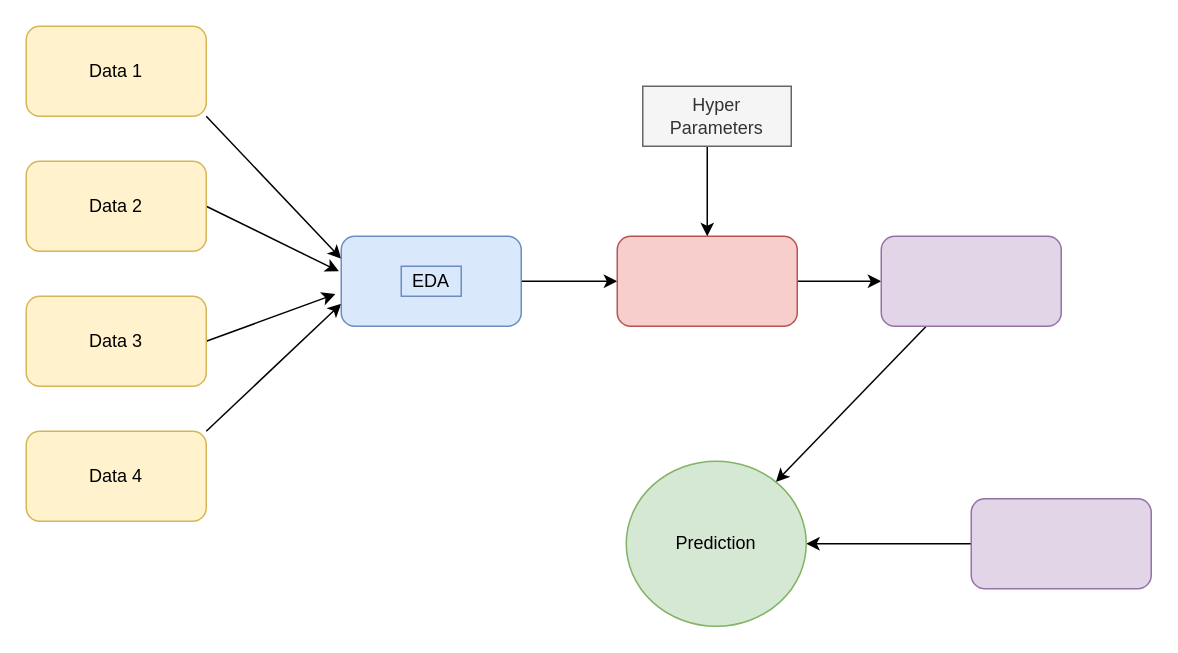
This 1178x653 diagram has some shape labels left out. Each missing label, with the centre of its shape:
New Test Data: the point at 1060,543
Trained Model: the point at 970,280
Training the model: the point at 706,280
